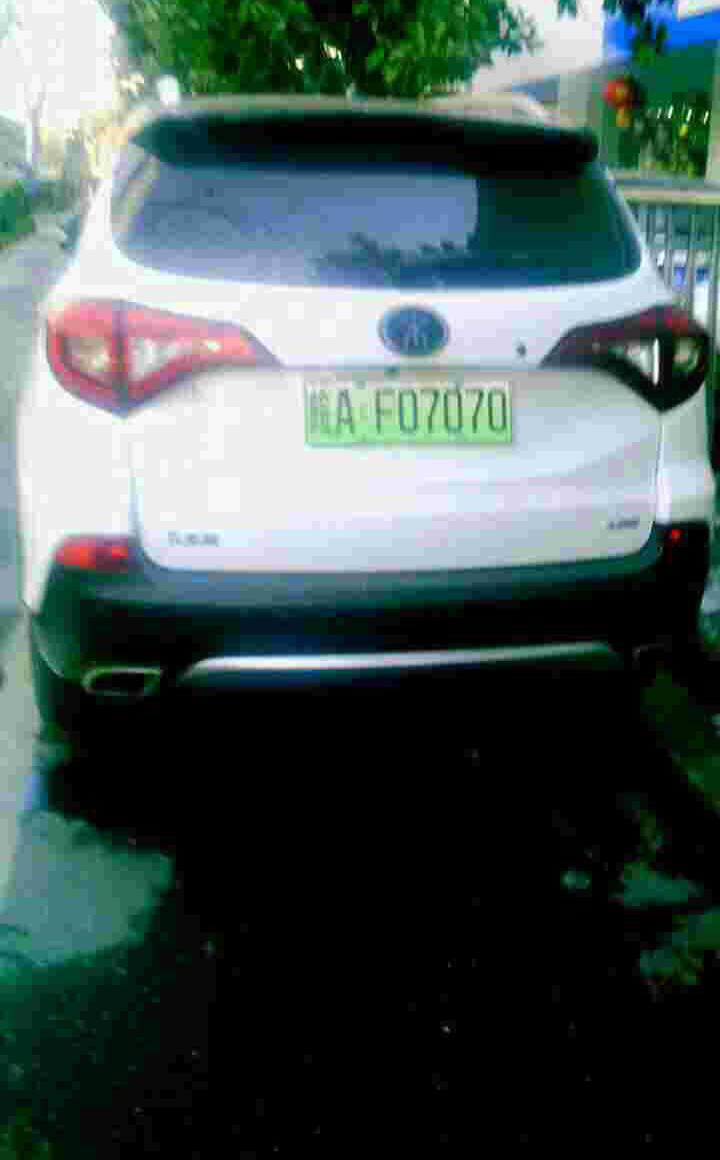car_id: (305, 374, 512, 446)
